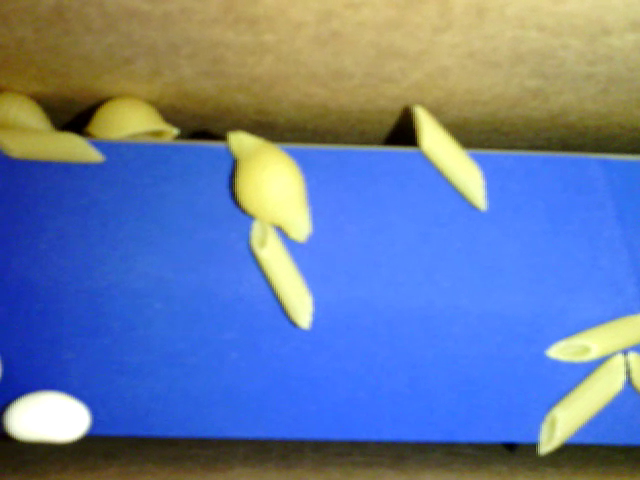penne: (534, 354, 629, 460), (409, 102, 489, 211), (247, 209, 314, 330), (543, 308, 639, 363), (1, 128, 104, 163), (620, 349, 639, 398)
shell: (225, 127, 315, 244), (87, 93, 183, 140), (1, 89, 67, 140)
